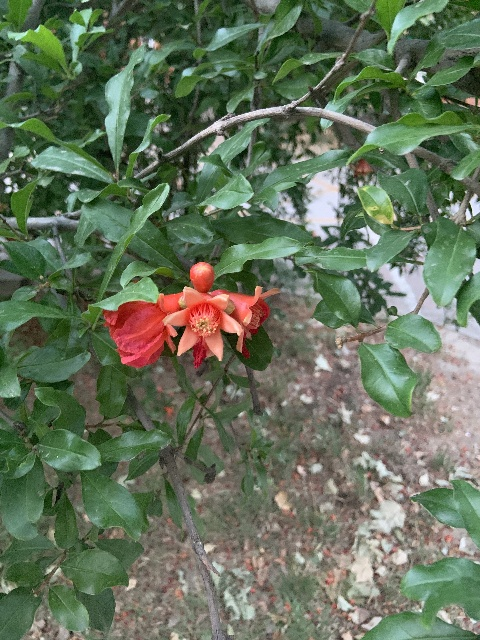bud: (189, 261, 214, 293), (223, 298, 234, 314), (178, 294, 187, 309)
flower: (102, 290, 184, 368), (162, 286, 243, 361), (210, 285, 281, 352)
